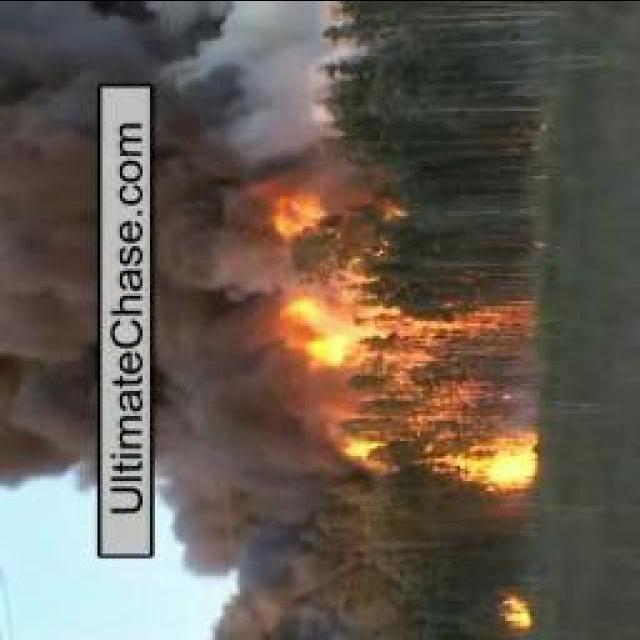Fire: (280, 296, 538, 490), (264, 193, 352, 236), (502, 596, 530, 629)
